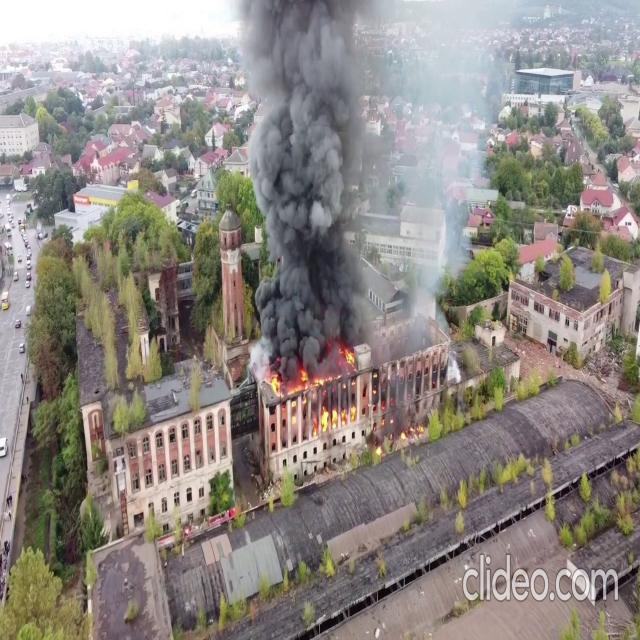Smoke: (234, 1, 396, 367)
